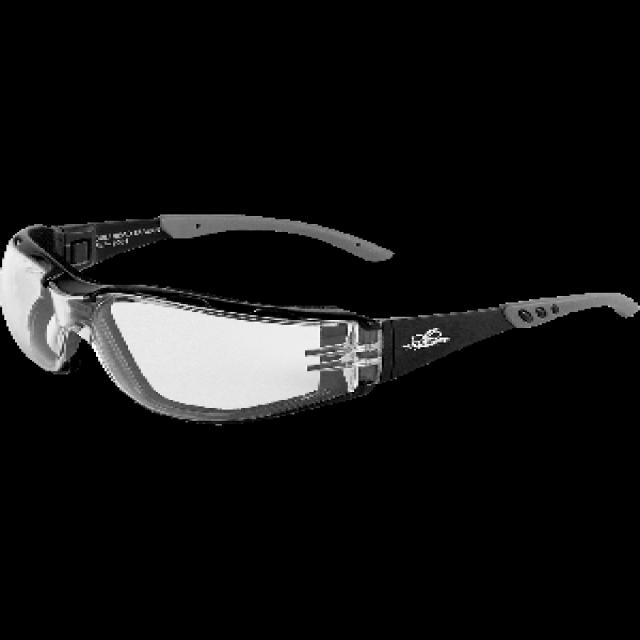Protective Glasses: (2, 101, 640, 499)
